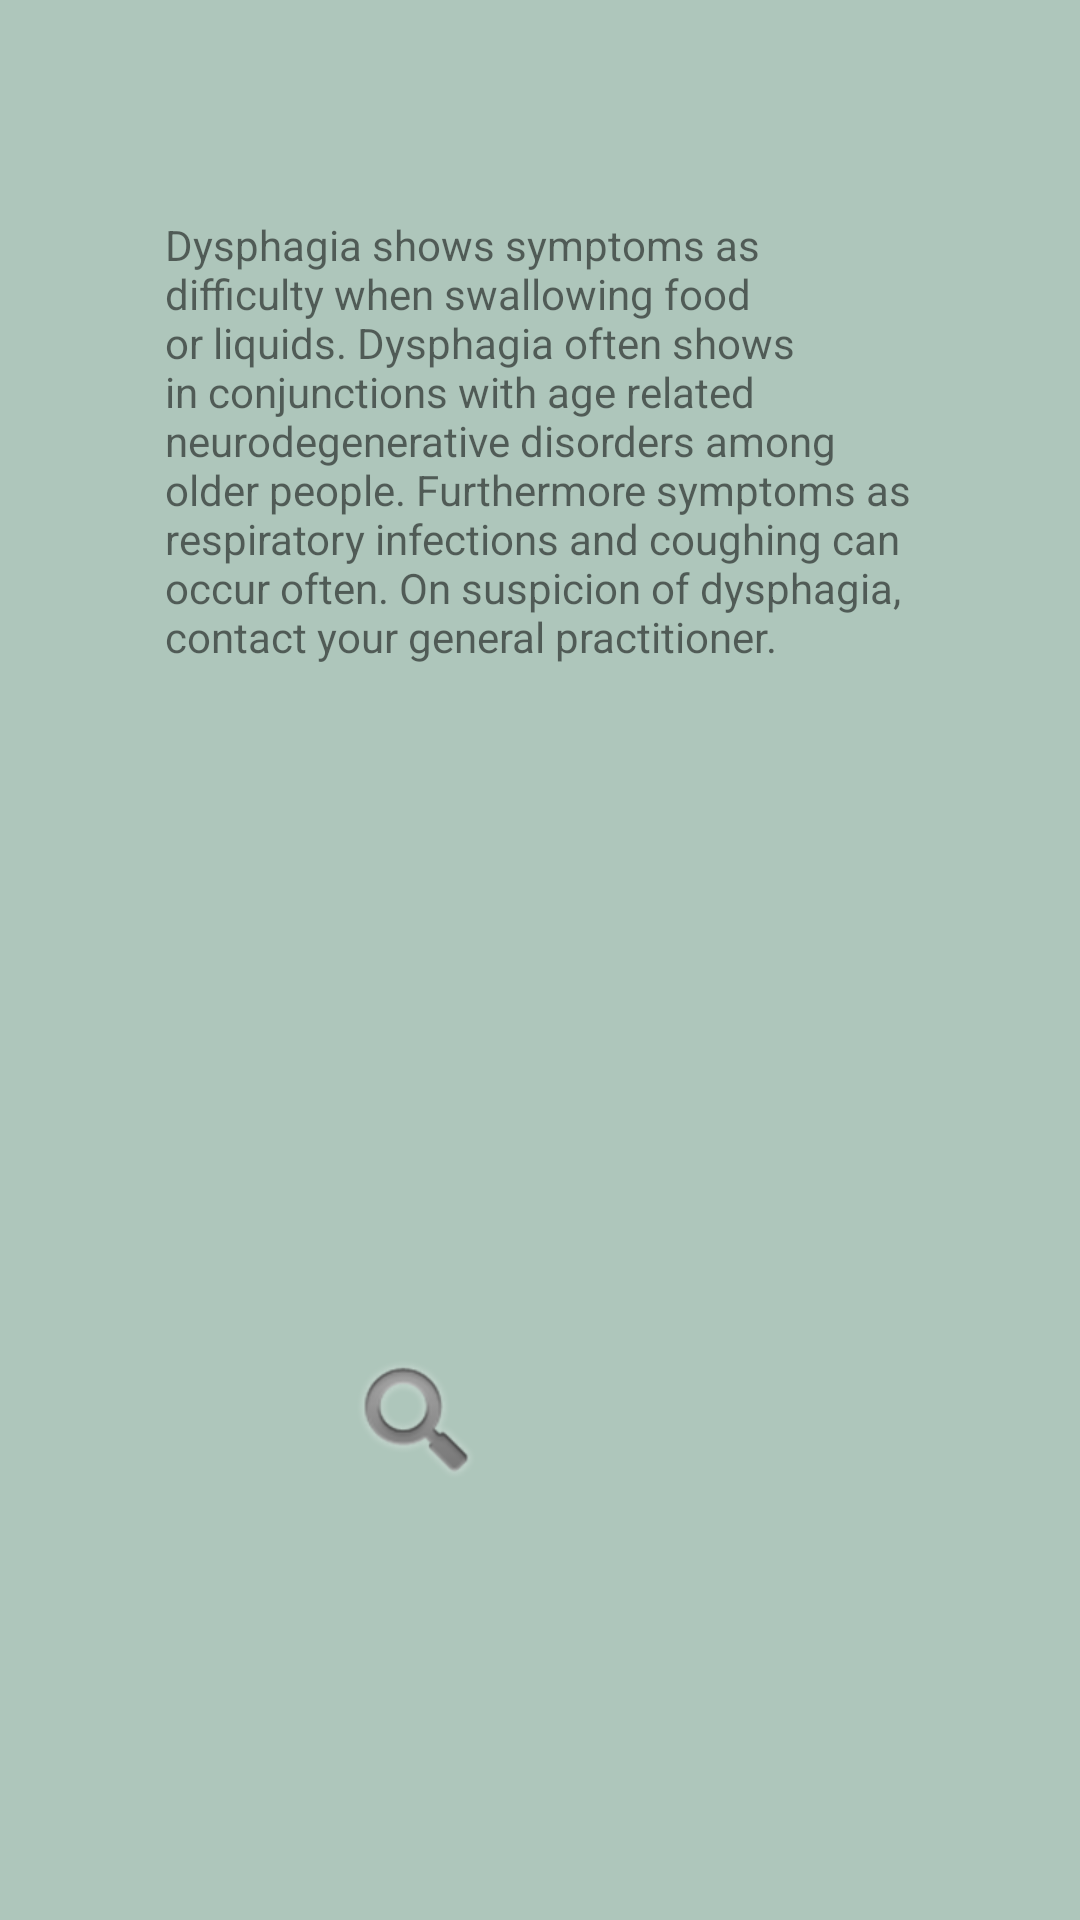

Icons on this 1080px x 1920px Android screen, each with its box as BBox(x1, y1, x2, y2):
search category: BBox(365, 1368, 468, 1470)
